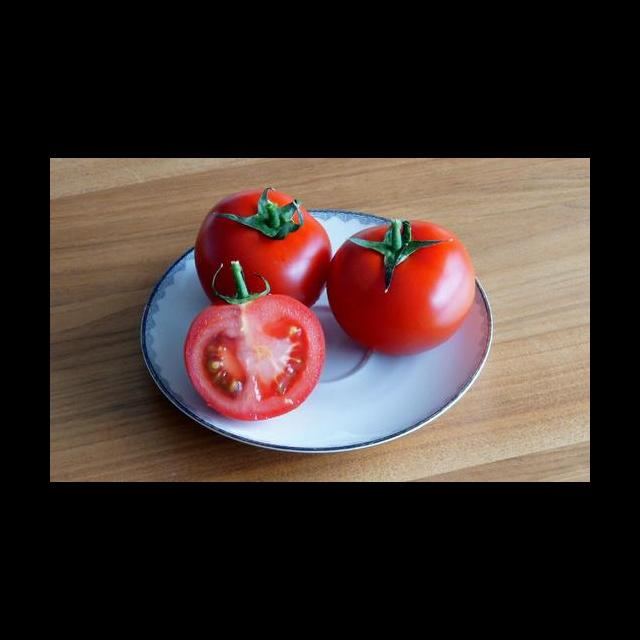tomato: (328, 220, 473, 353), (196, 188, 331, 306)
